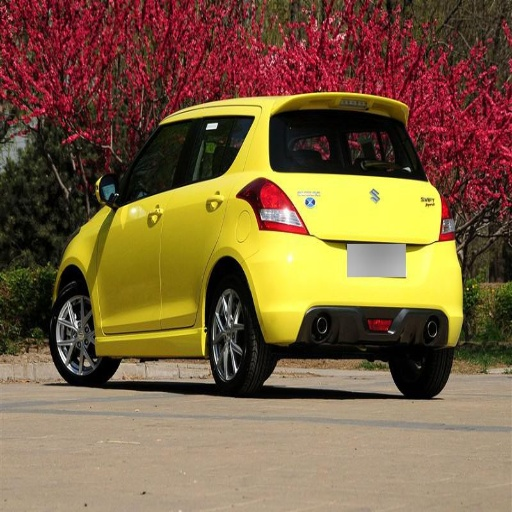back_bumper: (249, 233, 456, 343)
back_glass: (271, 109, 415, 177)
back_left_door: (163, 116, 228, 326)
trunk: (263, 178, 441, 297)
